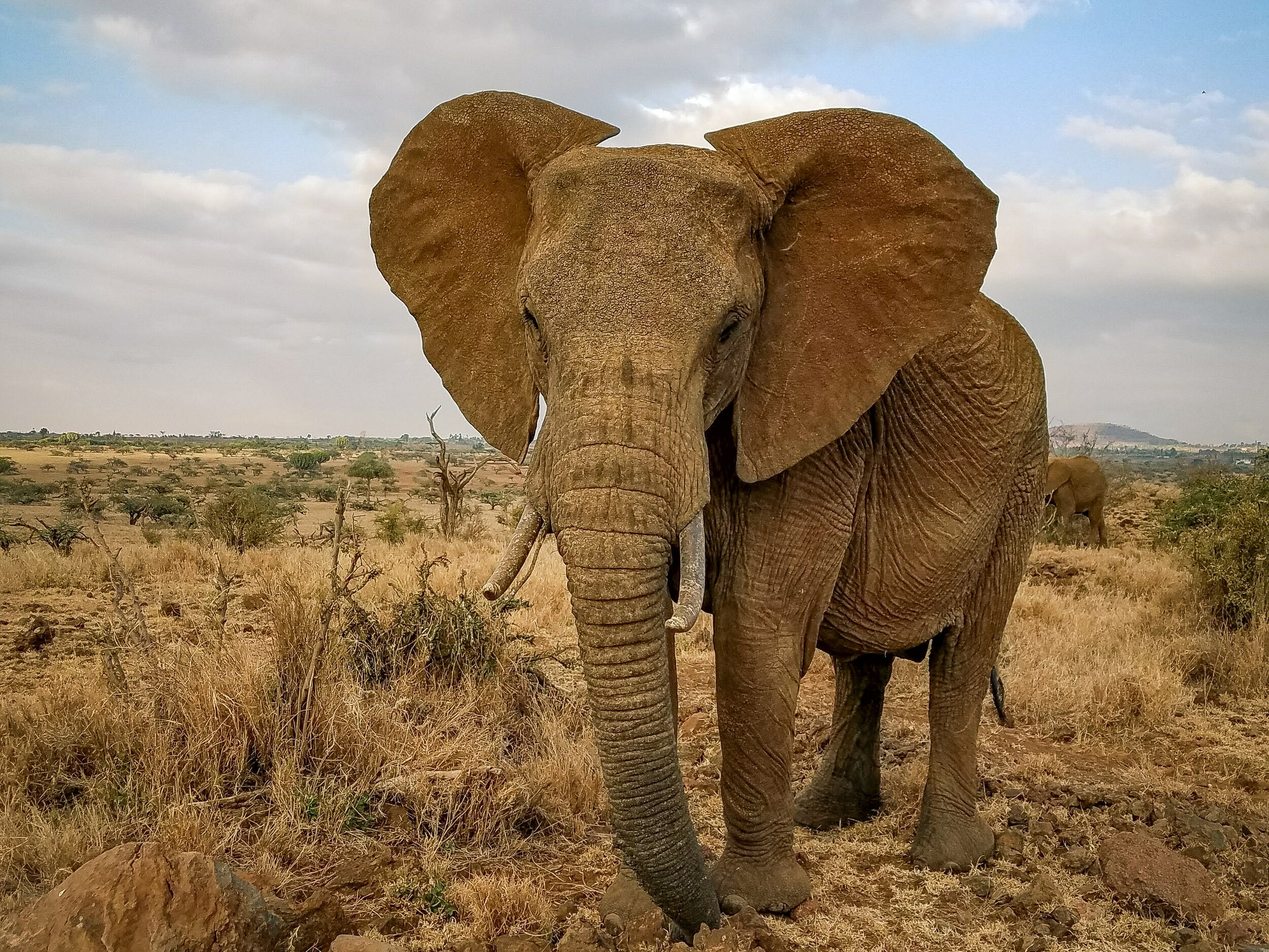Elephant: (370, 91, 999, 586)
